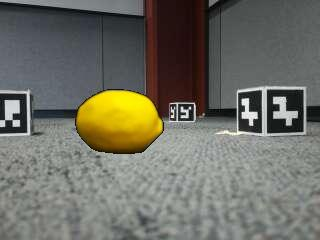lemon: (77, 90, 164, 153)
